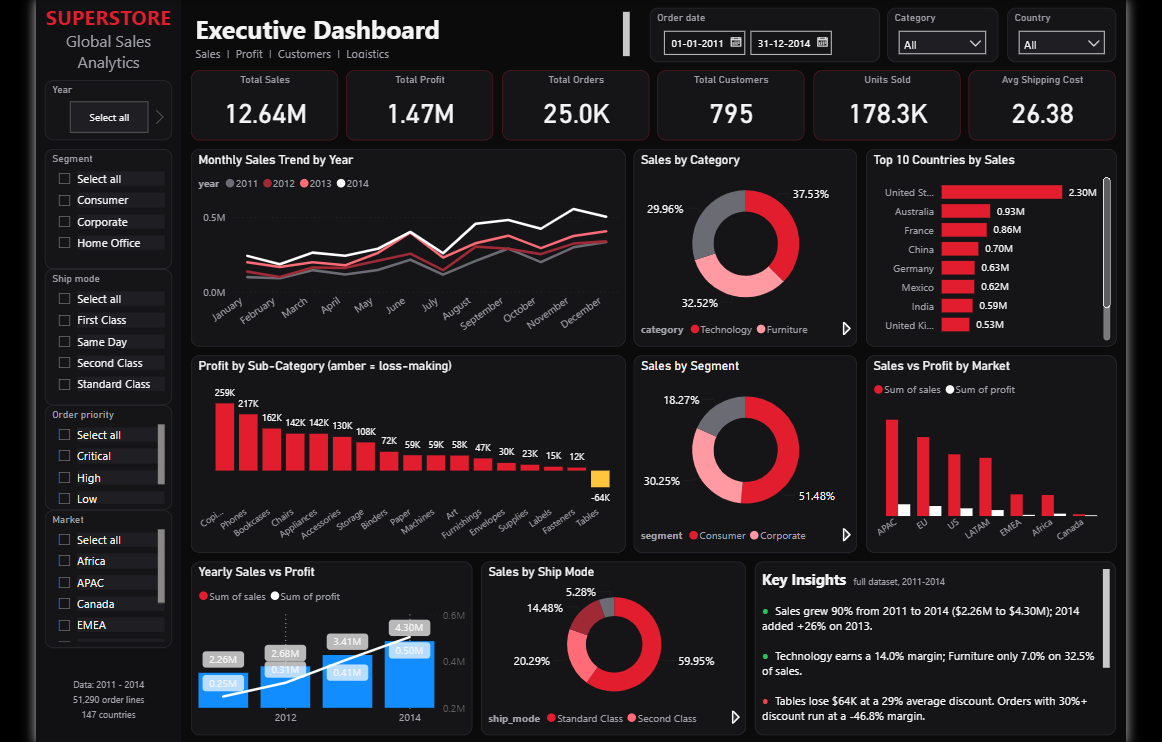

Layout of this report page (visuals, bound fields, positions):
{"tool":"powerbi","page":{"name":"Executive Dashboard","canvas":[1280,876],"ordinal":0},"visuals":[{"type":"textbox","box":[0,0,170.3,876.3],"z":0},{"type":"textbox","box":[182,10,520,64],"z":1000},{"type":"slicer","title":"Order date","fields":{"Values":["SuperStoreOrders.order_date"]},"box":[720,10,270,64],"z":2000},{"type":"slicer","title":"Category","fields":{"Values":["SuperStoreOrders.category"]},"box":[1000,10,130,64],"z":3000},{"type":"slicer","title":"Country","fields":{"Values":["SuperStoreOrders.country"]},"box":[1140,10,128,64],"z":4000},{"type":"slicer","title":"Year","fields":{"Values":["SuperStoreOrders.year"]},"box":[10.3,95.4,149.7,70.5],"z":5000},{"type":"slicer","title":"Segment","fields":{"Values":["SuperStoreOrders.segment"]},"box":[10.3,176.1,149.7,140.9],"z":6000},{"type":"slicer","title":"Ship mode","fields":{"Values":["SuperStoreOrders.ship_mode"]},"box":[10.3,317.1,149.7,160],"z":7000},{"type":"slicer","title":"Order priority","fields":{"Values":["SuperStoreOrders.order_priority"]},"box":[10.3,477,149.7,123.3],"z":8000},{"type":"slicer","title":"Market","fields":{"Values":["SuperStoreOrders.market"]},"box":[10.3,600.3,149.7,161.5],"z":9000},{"type":"textbox","box":[10,790,150,74],"z":10000},{"type":"card","title":"Total Sales","fields":{"Values":["Sum(SuperStoreOrders.sales)"]},"box":[182,84,172.7,82],"z":11000},{"type":"card","title":"Total Profit","fields":{"Values":["Sum(SuperStoreOrders.profit)"]},"box":[364.7,84,172.7,82],"z":12000},{"type":"card","title":"Total Orders","fields":{"Values":["DistinctCount(SuperStoreOrders.order_id)"]},"box":[547.3,84,172.7,82],"z":13000},{"type":"card","title":"Total Customers","fields":{"Values":["DistinctCount(SuperStoreOrders.customer_name)"]},"box":[730,84,172.7,82],"z":14000},{"type":"card","title":"Units Sold","fields":{"Values":["Sum(SuperStoreOrders.quantity)"]},"box":[912.7,84,172.7,82],"z":15000},{"type":"card","title":"Avg Shipping Cost","fields":{"Values":["Avg(SuperStoreOrders.shipping_cost)"]},"box":[1095.3,84,172.7,82],"z":16000},{"type":"lineChart","title":"Monthly Sales Trend by Year","fields":{"Category":["SuperStoreOrders.order_date.Variation.Date Hierarchy.Month"],"Series":["SuperStoreOrders.year"],"Y":["Sum(SuperStoreOrders.sales)"]},"box":[182,176,510,232],"z":17000},{"type":"donutChart","title":"Sales by Category","fields":{"Category":["SuperStoreOrders.category"],"Y":["Sum(SuperStoreOrders.sales)"]},"box":[702,176,262,232],"z":18000},{"type":"clusteredBarChart","title":"Top 10 Countries by Sales","fields":{"Category":["SuperStoreOrders.country"],"Y":["Sum(SuperStoreOrders.sales)"]},"box":[974.6,176.1,293.6,242.2],"z":19000},{"type":"columnChart","title":"Profit by Sub-Category  (amber = loss-making)","fields":{"Category":["SuperStoreOrders.sub_category"],"Y":["Sum(SuperStoreOrders.profit)"]},"box":[182,418,510,232],"z":20000},{"type":"donutChart","title":"Sales by Segment","fields":{"Category":["SuperStoreOrders.segment"],"Y":["Sum(SuperStoreOrders.sales)"]},"box":[702,418,262,232],"z":21000},{"type":"clusteredColumnChart","title":"Sales vs Profit by Market","fields":{"Category":["SuperStoreOrders.market"],"Y":["Sum(SuperStoreOrders.sales)","Sum(SuperStoreOrders.profit)"]},"box":[974.6,428.6,294,232],"z":22000},{"type":"lineClusteredColumnComboChart","title":"Yearly Sales vs Profit","fields":{"Category":["SuperStoreOrders.year"],"Y":["Sum(SuperStoreOrders.sales)"],"Y2":["Sum(SuperStoreOrders.profit)"]},"box":[182,660,330,204],"z":23000},{"type":"donutChart","title":"Sales by Ship Mode","fields":{"Category":["SuperStoreOrders.ship_mode"],"Y":["Sum(SuperStoreOrders.sales)"]},"box":[522.5,660.5,311.2,204],"z":24000},{"type":"textbox","box":[844,660.5,424.2,204],"z":25000}]}

Visuals, with their boxes on the page's 1280x876 design canvas (x1, y1, x2, y2). These are canvas units, not pixel positions in the 1162x742 screenshot, which may show the page scaled, cropped or inside an application window:
textbox: pyautogui.locateOnScreen(0, 0, 170, 876)
textbox: pyautogui.locateOnScreen(182, 10, 702, 74)
"Order date" slicer: pyautogui.locateOnScreen(720, 10, 990, 74)
"Category" slicer: pyautogui.locateOnScreen(1000, 10, 1130, 74)
"Country" slicer: pyautogui.locateOnScreen(1140, 10, 1268, 74)
"Year" slicer: pyautogui.locateOnScreen(10, 95, 160, 166)
"Segment" slicer: pyautogui.locateOnScreen(10, 176, 160, 317)
"Ship mode" slicer: pyautogui.locateOnScreen(10, 317, 160, 477)
"Order priority" slicer: pyautogui.locateOnScreen(10, 477, 160, 600)
"Market" slicer: pyautogui.locateOnScreen(10, 600, 160, 762)
textbox: pyautogui.locateOnScreen(10, 790, 160, 864)
"Total Sales" card: pyautogui.locateOnScreen(182, 84, 355, 166)
"Total Profit" card: pyautogui.locateOnScreen(365, 84, 537, 166)
"Total Orders" card: pyautogui.locateOnScreen(547, 84, 720, 166)
"Total Customers" card: pyautogui.locateOnScreen(730, 84, 903, 166)
"Units Sold" card: pyautogui.locateOnScreen(913, 84, 1085, 166)
"Avg Shipping Cost" card: pyautogui.locateOnScreen(1095, 84, 1268, 166)
"Monthly Sales Trend by Year" lineChart: pyautogui.locateOnScreen(182, 176, 692, 408)
"Sales by Category" donutChart: pyautogui.locateOnScreen(702, 176, 964, 408)
"Top 10 Countries by Sales" clusteredBarChart: pyautogui.locateOnScreen(975, 176, 1268, 418)
"Profit by Sub-Category  (amber = loss-making)" columnChart: pyautogui.locateOnScreen(182, 418, 692, 650)
"Sales by Segment" donutChart: pyautogui.locateOnScreen(702, 418, 964, 650)
"Sales vs Profit by Market" clusteredColumnChart: pyautogui.locateOnScreen(975, 429, 1269, 661)
"Yearly Sales vs Profit" lineClusteredColumnComboChart: pyautogui.locateOnScreen(182, 660, 512, 864)
"Sales by Ship Mode" donutChart: pyautogui.locateOnScreen(522, 660, 834, 864)
textbox: pyautogui.locateOnScreen(844, 660, 1268, 864)
